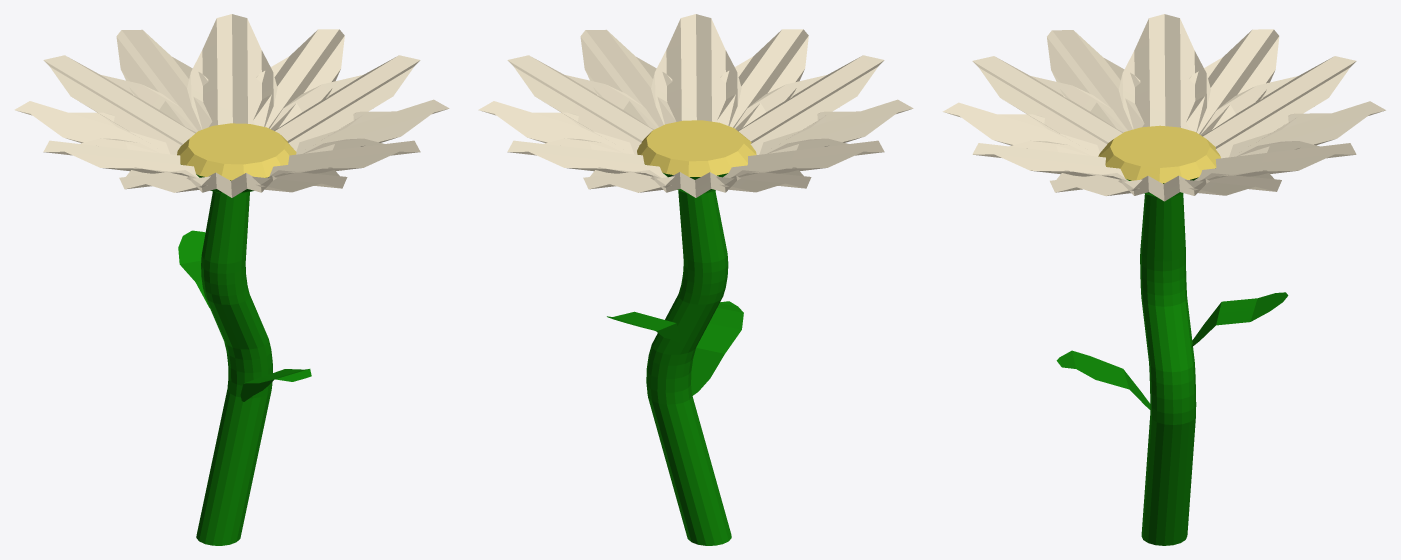
Rendered from flower.fbx.
The picture shows the model from 3 angles, left to right: view 1: azimuth 30°, elevation 25°; view 2: azimuth 150°, elevation 25°; view 3: azimuth 270°, elevation 25°; orthographic projection.
Visible parts, largest first — view 1: flower; view 2: flower; view 3: flower.
Part boxes in pixels (x1,y1,x2,y2): flower: (14,14,449,545); flower: (478,14,913,545); flower: (942,14,1385,545).
Size of the model in its own units: 696 by 757 by 696.
